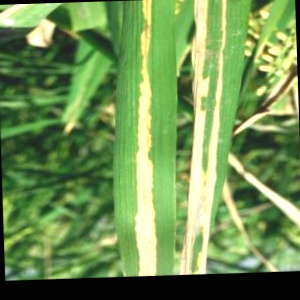Leaf_Blast: (113, 0, 180, 273), (188, 0, 251, 274)
